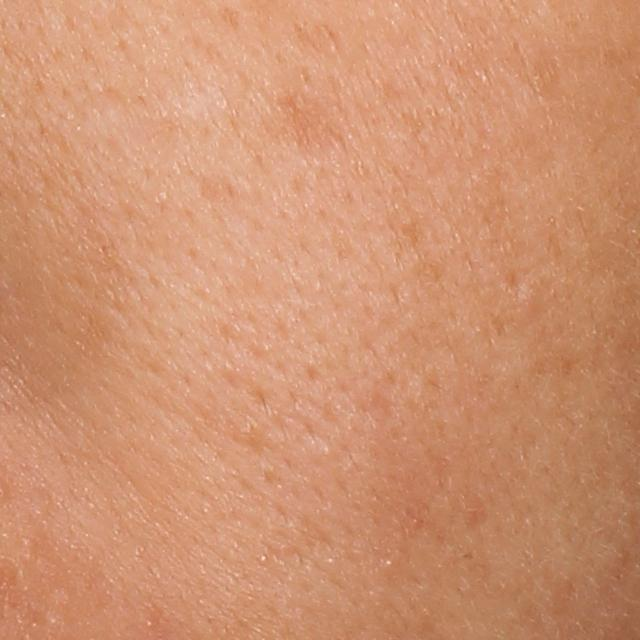melasma: (263, 79, 362, 167)
